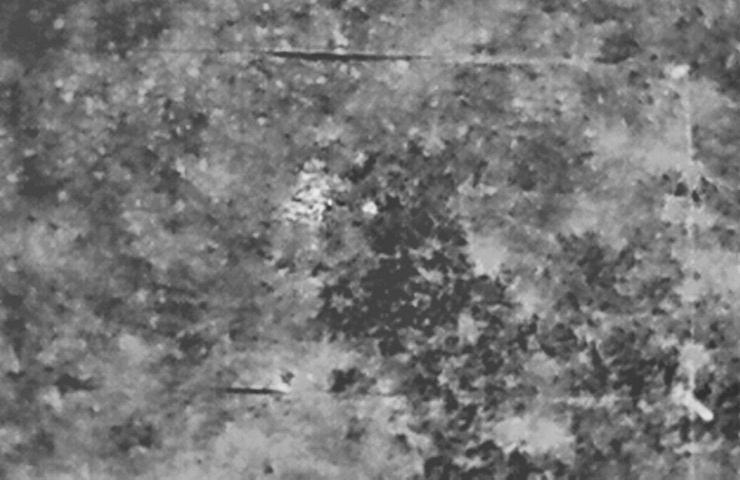landmines: (287, 163, 340, 227)
